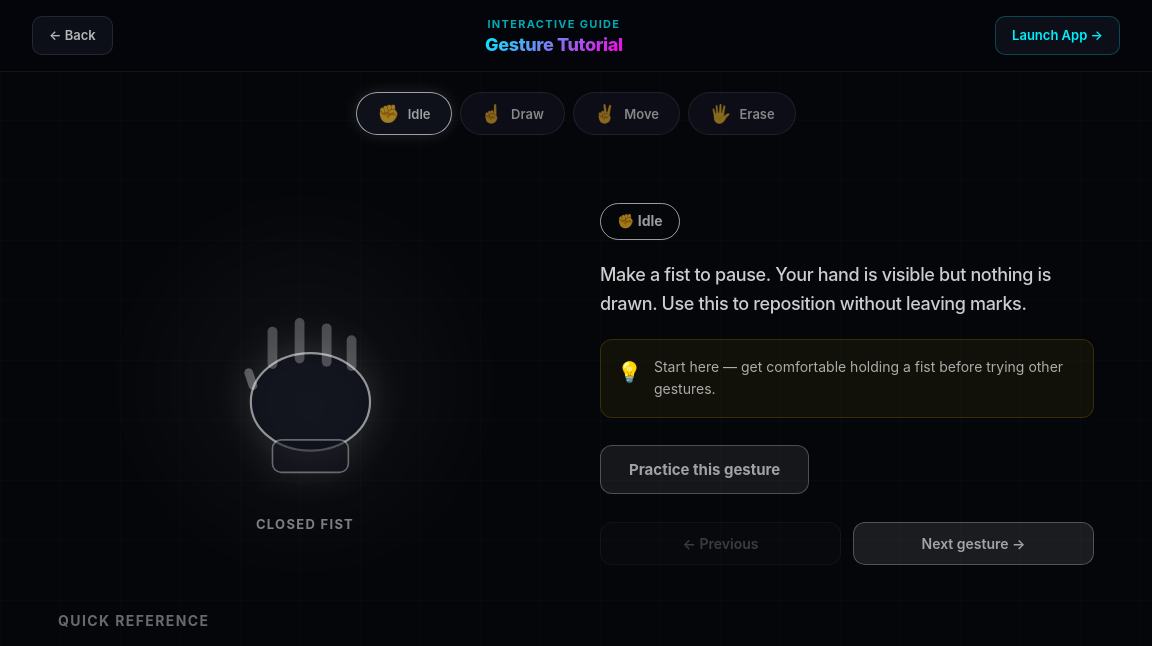
Test: GestureTutorial › marks a gesture as practiced after the countdown
The width and height of the screenshot is (1152, 646).
Click the button "Practice this gesture" at (705, 470), box [600, 445, 809, 494]
Wait 3000 ms
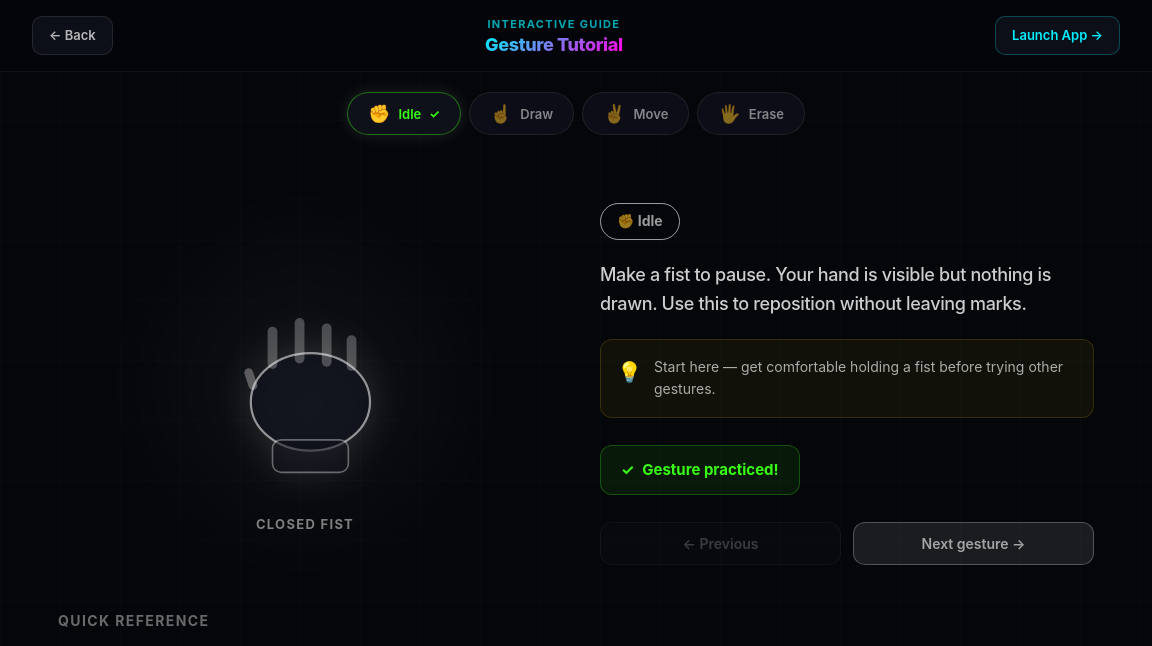
Result: the text "✓ Gesture practiced!" is shown at [600, 445, 800, 495]
